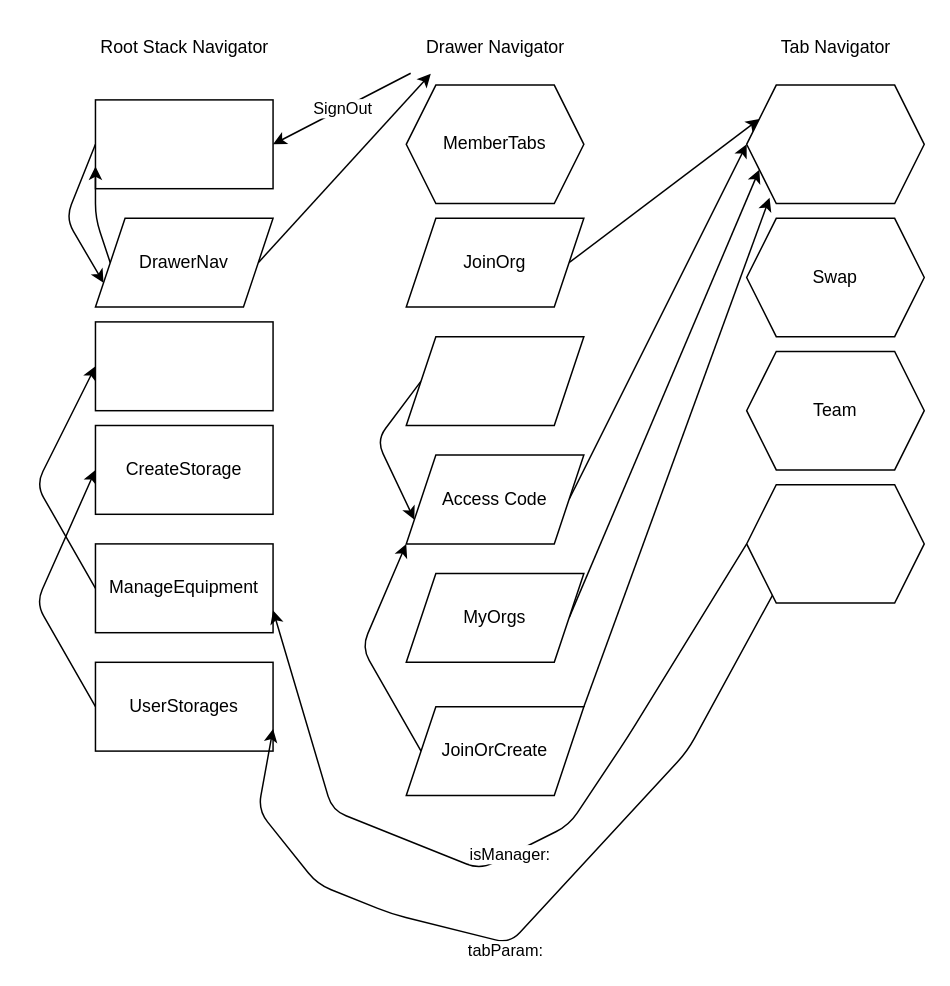
Some shapes in this 950 by 986 pixel diagram are drawn without their labels. The shapes that lost their labels are listed below. From the top down, each one's box as (x1, y1, x2, y2) in pixels, then its label:
(94, 98, 273, 189): Home
(745, 84, 924, 204): Equipment
(94, 320, 273, 411): CreateEquipment
(405, 335, 584, 426): CreateOrg
(745, 483, 924, 603): OrgInfo
